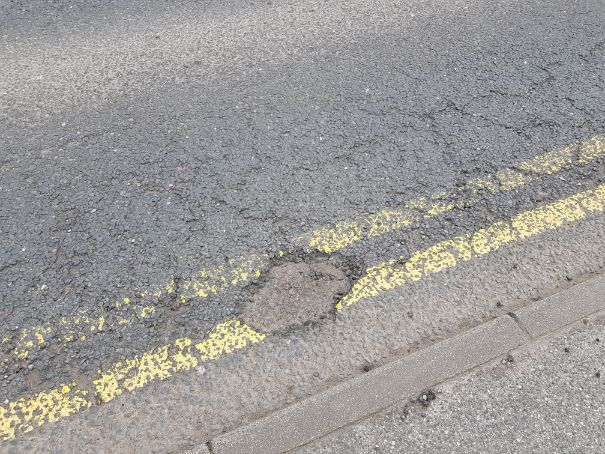pothole: (230, 246, 363, 338)
